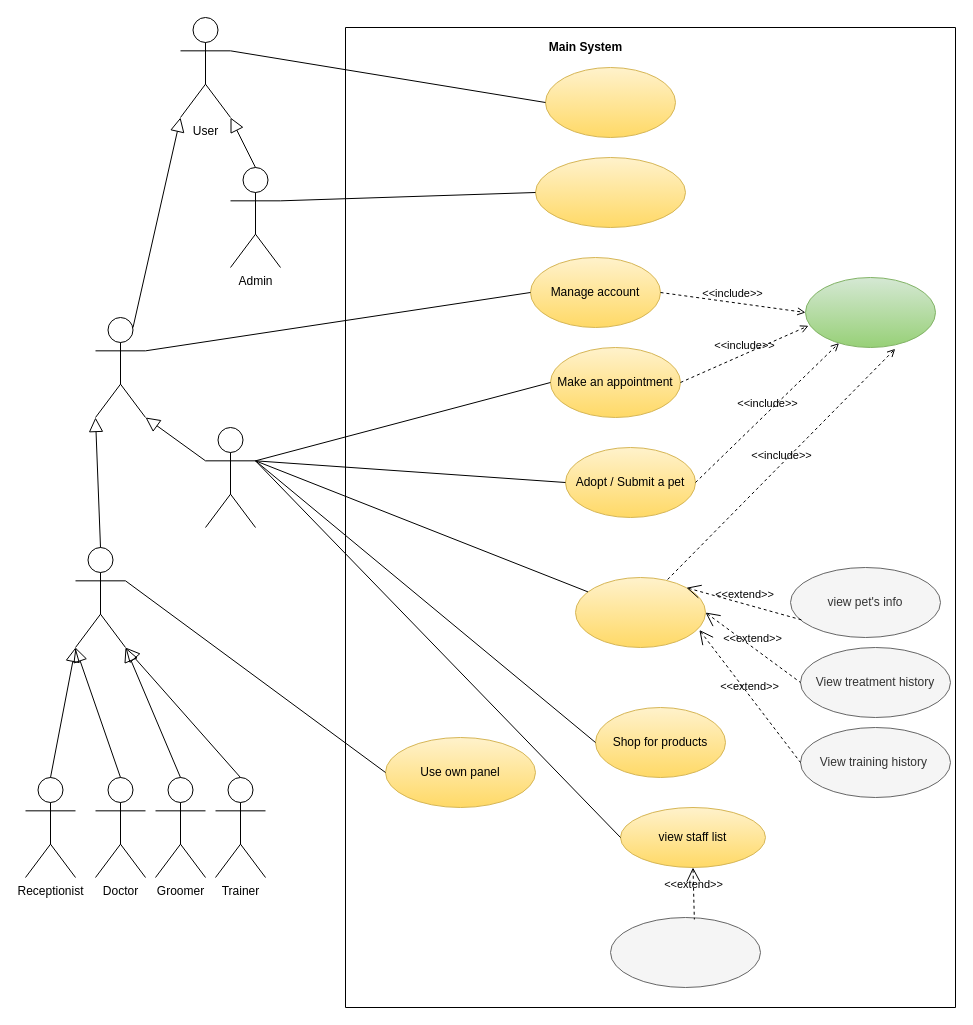
Some shapes in this 973 by 1025 pixel diagram are drawn without their labels. The centre of each missing label's shape, as x and y in pixels:
"Check r egistration" belongs at pixel 870 312.
"Client" belongs at pixel 230 477.
"Normal User" belongs at pixel 120 367.
"Register" belongs at pixel 610 102.
"Staff" belongs at pixel 100 597.
"submit feedback" belongs at pixel 685 952.
"Use admin panel" belongs at pixel 610 192.
"View pet's profile" belongs at pixel 640 612.
